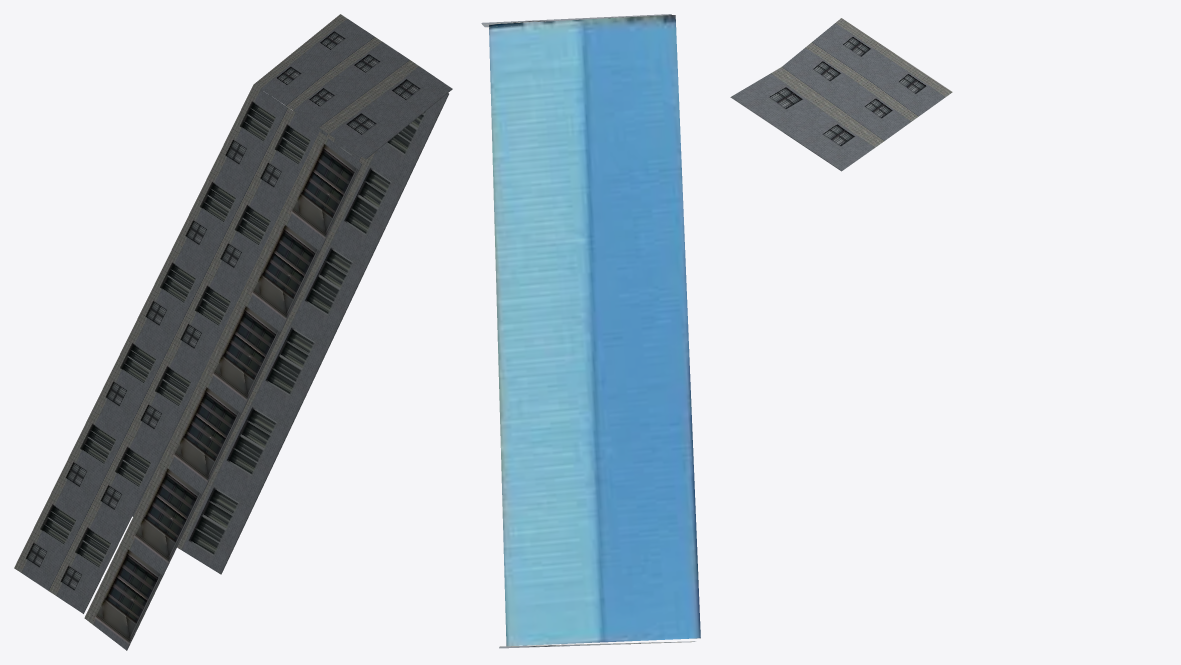
The model's file is tile_LOD4_r3_c3.glb.
The picture shows the model from 3 angles, left to right: view 1: azimuth 30°, elevation 25°; view 2: azimuth 150°, elevation 25°; view 3: azimuth 270°, elevation 25°; orthographic projection. The views are drawn at different scales.
Size of the model in its own units: 22.75 by 38.75 by 25.5.
Materials: 5 (5 with a texture image).
